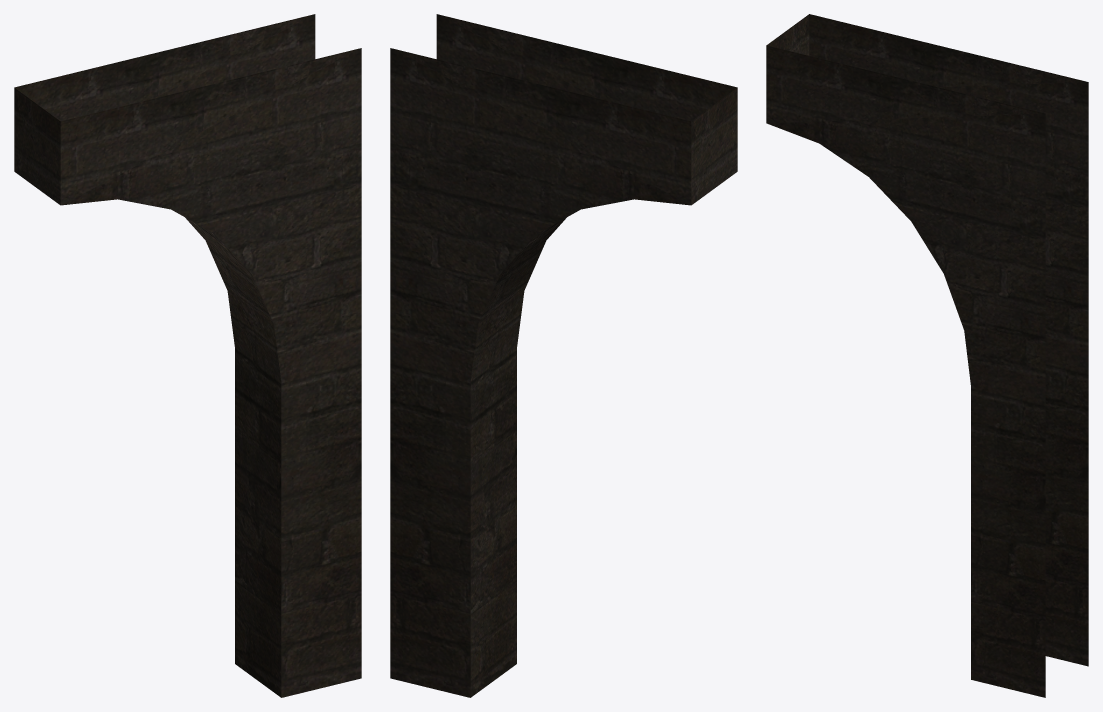
The model's file is half_arc_pillar_1_wall_1_plain.obj.
3 renders of one model, left to right at view 1: azimuth 30°, elevation 25°; view 2: azimuth 150°, elevation 25°; view 3: azimuth 330°, elevation 25°, orthographic. The views are drawn at different scales.
Visible parts, largest first — view 1: half_arc_pillar_1_wall_1_plain; view 2: half_arc_pillar_1_wall_1_plain; view 3: half_arc_pillar_1_wall_1_plain.
Part boxes in pixels (x1,y1,x2,y2): half_arc_pillar_1_wall_1_plain: [14, 14, 361, 697]; half_arc_pillar_1_wall_1_plain: [390, 14, 737, 697]; half_arc_pillar_1_wall_1_plain: [766, 14, 1088, 697].
Bounding box in the file's own units: 1.5 × 3 × 0.4.
